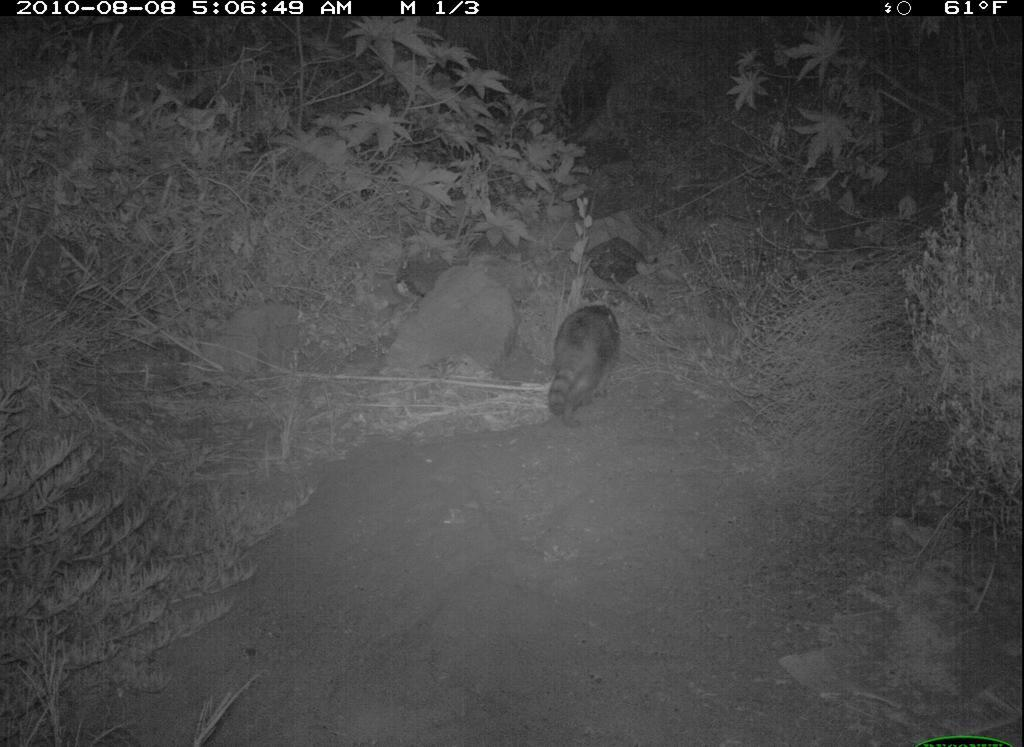raccoon: (519, 296, 643, 438)
